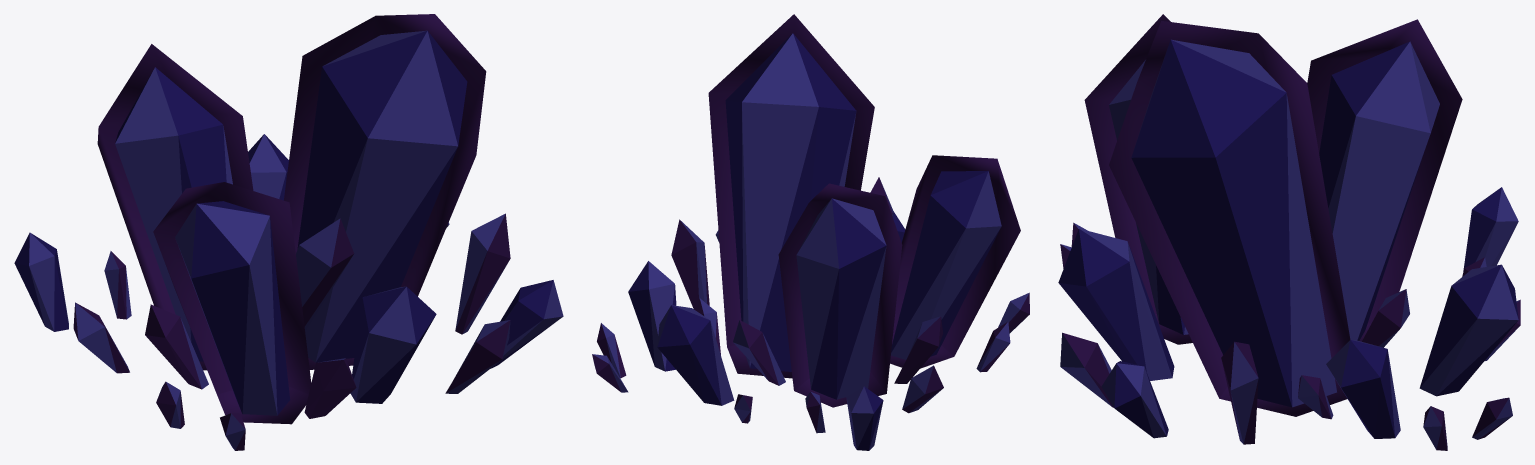
The picture shows the model from 3 angles, left to right: view 1: azimuth 30°, elevation 25°; view 2: azimuth 150°, elevation 25°; view 3: azimuth 270°, elevation 25°; orthographic projection. The views are drawn at different scales.
Visible parts, largest first — view 1: 30698; view 2: 30698; view 3: 30698.
Boxes of the visible parts, x1,y1,x2,y2 form: 30698: (14,14,563,450); 30698: (592,14,1029,450); 30698: (1058,14,1520,450).
Bounding box in the file's own units: 2.49 × 2.28 × 2.47.
